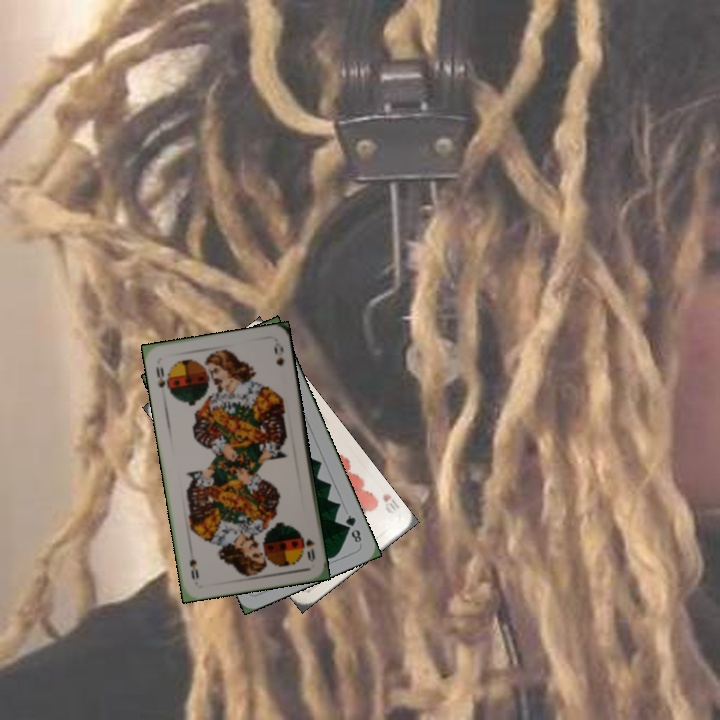G8: (341, 511, 364, 545)
H10: (378, 489, 399, 517)
SO: (302, 534, 318, 564), (152, 363, 168, 390)
